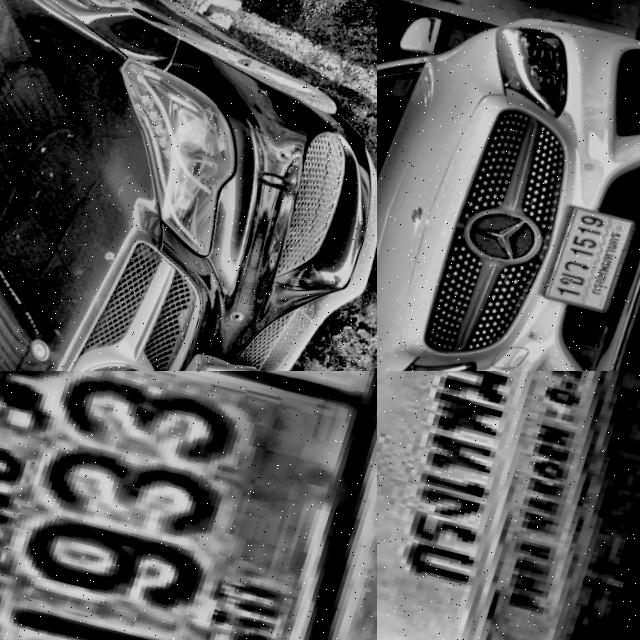license-plate: (0, 371, 377, 640), (377, 371, 640, 640), (539, 202, 639, 316), (142, 345, 272, 371)
